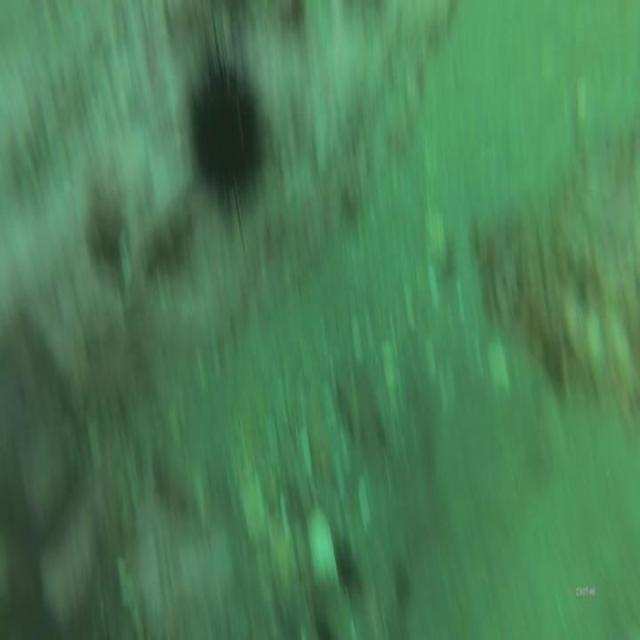echinus: (188, 58, 266, 225)
